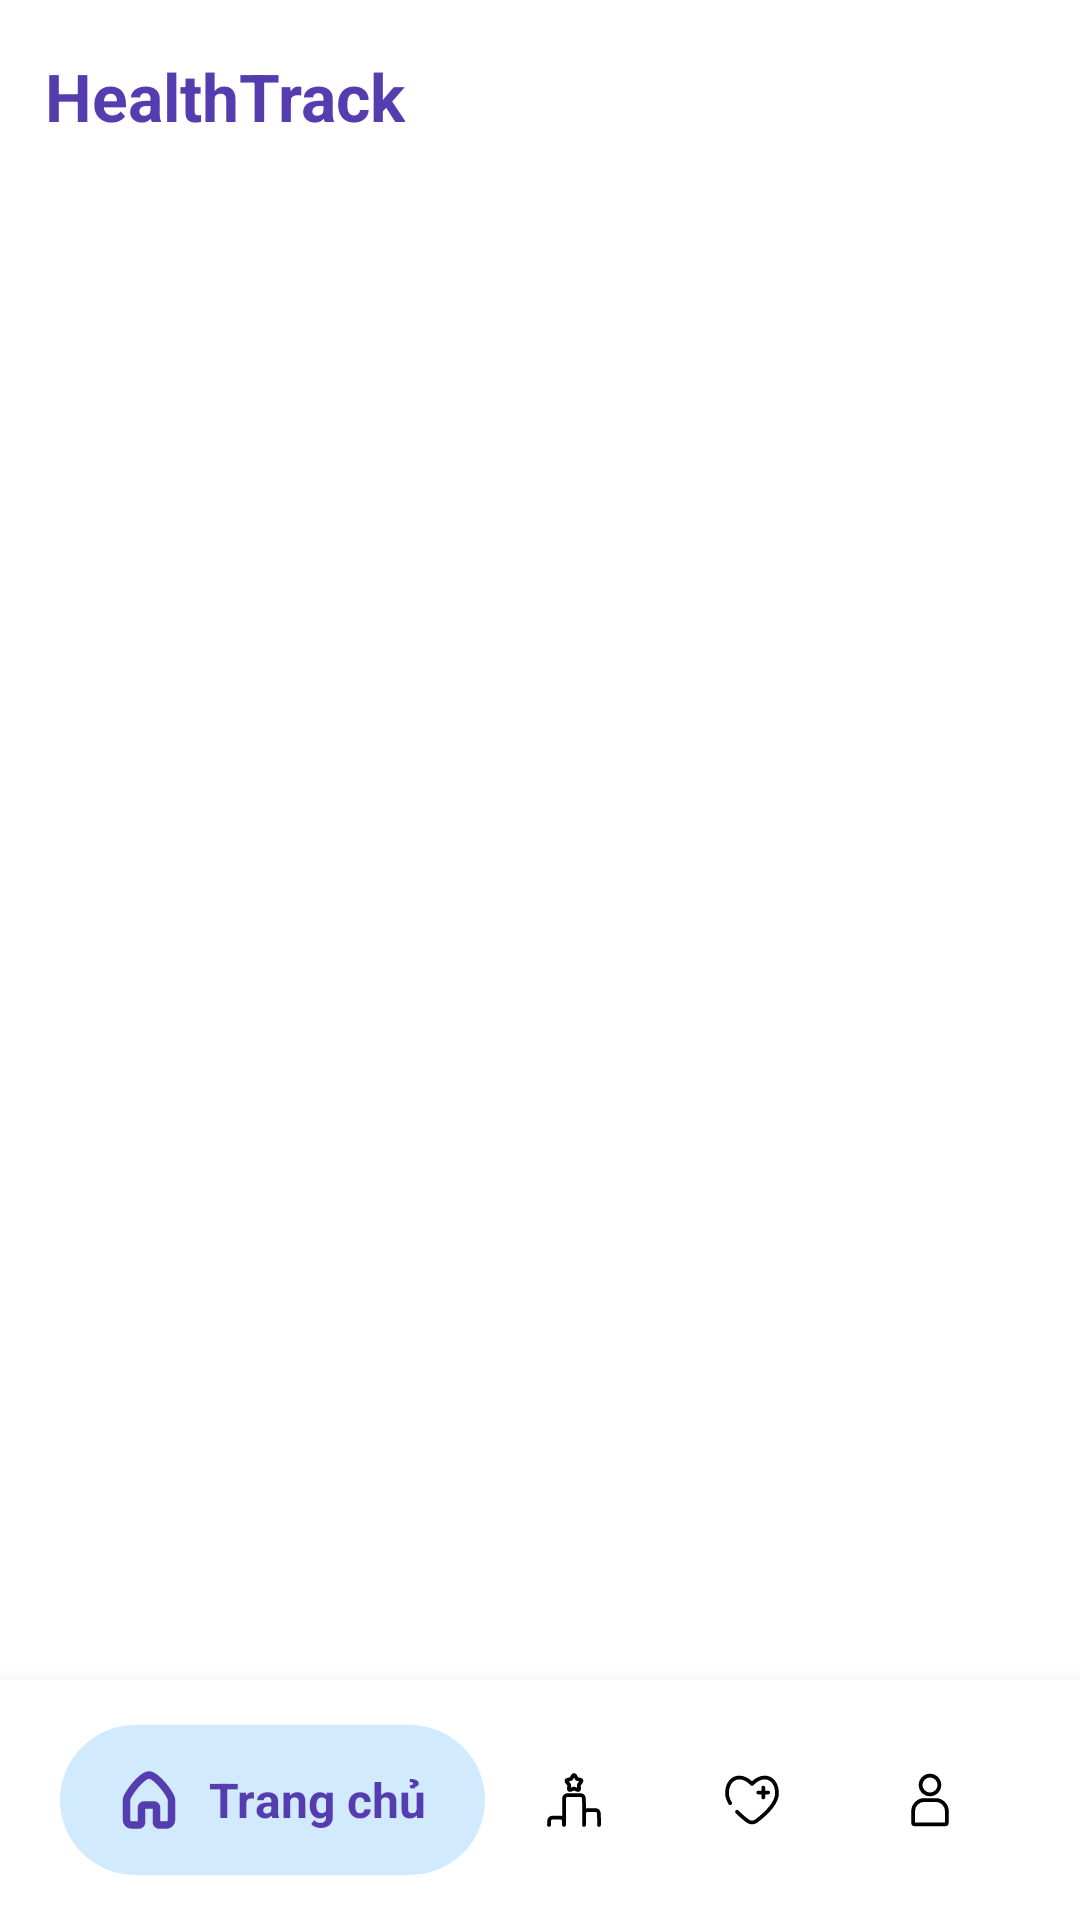

Screen size 1080 x 1920. Icon name, then its center in pixels as (x,y):
challenge: (574,1800)
health: (752,1800)
home select: (149,1800)
profile: (930,1800)
